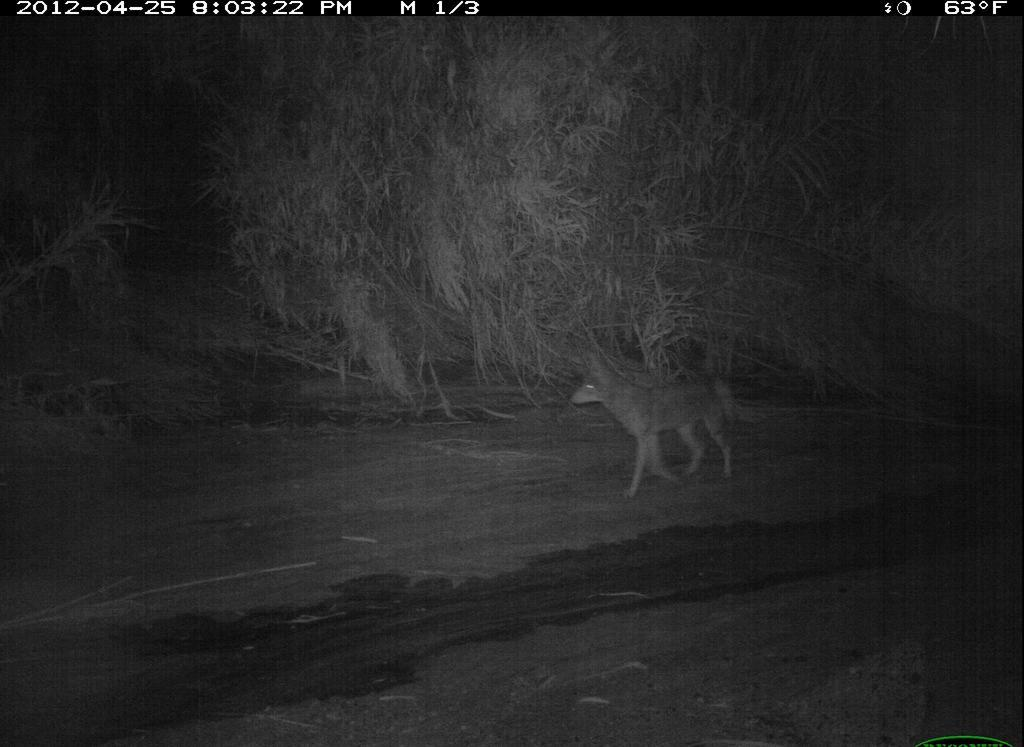coyote: (566, 350, 745, 506)
